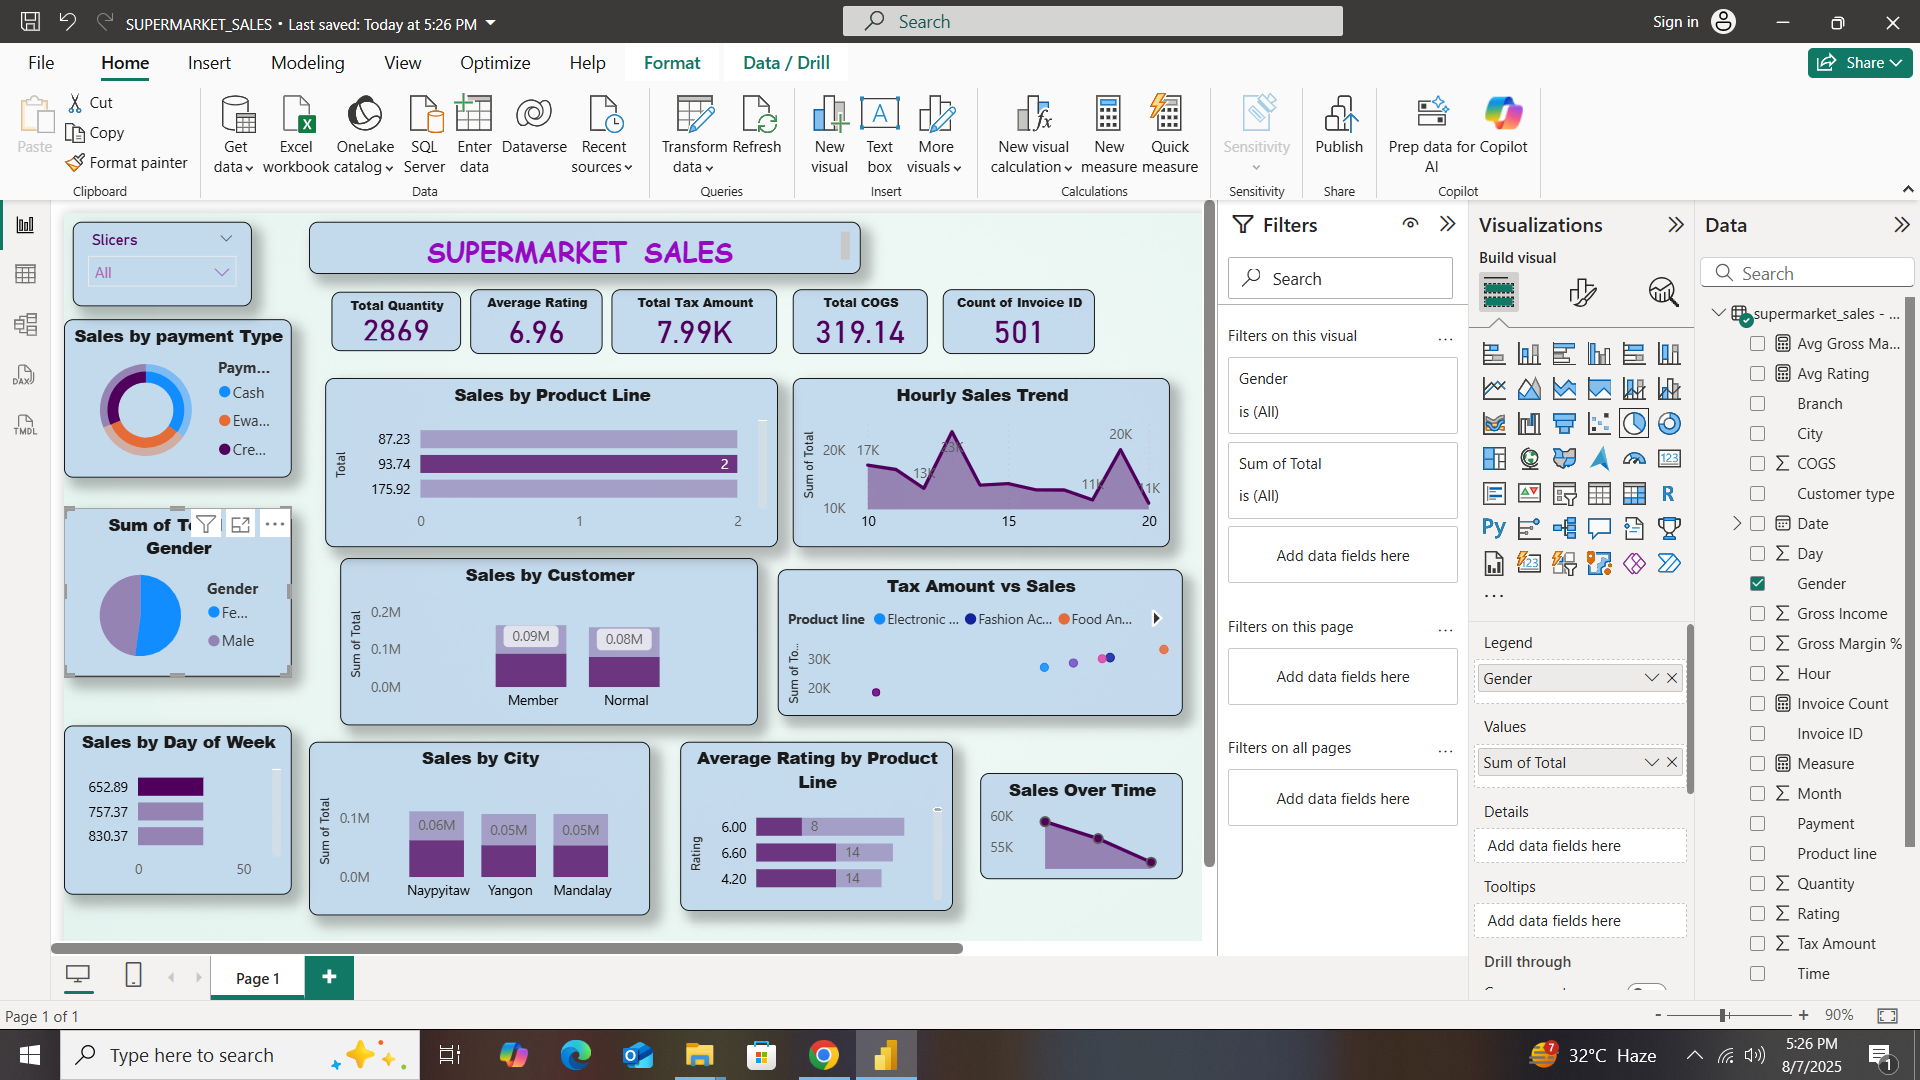

Layout of this report page (visuals, bound fields, positions):
{"tool":"powerbi","page":{"name":"Page 1","canvas":[1280,720],"ordinal":0},"visuals":[{"type":"clusteredColumnChart","title":"Sales by City","fields":{"Category":["supermarket_sales - Sheet1 - Copy.City"],"Y":["Sum(supermarket_sales - Sheet1 - Copy.Total)"]},"box":[217.8,470,303.3,154.4],"z":0},{"type":"donutChart","title":"Sales by payment Type","fields":{"Category":["supermarket_sales - Sheet1 - Copy.Payment"],"Y":["Sum(supermarket_sales - Sheet1 - Copy.Total)"]},"box":[0,94,202,141],"z":1000},{"type":"lineClusteredColumnComboChart","title":"Sales by Customer ","fields":{"Category":["supermarket_sales - Sheet1 - Copy.Customer type"],"Y":["Sum(supermarket_sales - Sheet1 - Copy.Total)"]},"box":[245.6,306.7,371.1,148.9],"z":2000},{"type":"pieChart","fields":{"Category":["supermarket_sales - Sheet1 - Copy.Gender"],"Y":["Sum(supermarket_sales - Sheet1 - Copy.Total)"]},"box":[0,262.2,202.2,150],"z":3000},{"type":"lineChart","title":"Sales Over Time","fields":{"Y":["Sum(supermarket_sales - Sheet1 - Copy.Total)"],"Category":["supermarket_sales - Sheet1 - Copy.Date.Variation.Date Hierarchy.Month"]},"box":[814.4,497.8,180,94.4],"z":4000},{"type":"areaChart","title":"Hourly Sales Trend","fields":{"Category":["supermarket_sales - Sheet1 - Copy.Hour"],"Y":["Sum(supermarket_sales - Sheet1 - Copy.Total)"]},"box":[647.8,146.7,335.6,150],"z":5000},{"type":"barChart","title":"Sales by Day of Week","fields":{"Y":["Sum(supermarket_sales - Sheet1 - Copy.Day)"],"Category":["supermarket_sales - Sheet1 - Copy.Total"]},"box":[0,455.6,202.2,150],"z":6000},{"type":"barChart","title":"Average Rating by Product Line","fields":{"Y":["CountNonNull(supermarket_sales - Sheet1 - Copy.Product line)"],"Category":["supermarket_sales - Sheet1 - Copy.Rating"]},"box":[547.8,470,242.2,150],"z":7000},{"type":"slicer","fields":{"Values":["supermarket_sales - Sheet1 - Copy.City","supermarket_sales - Sheet1 - Copy.Gross Margin %","supermarket_sales - Sheet1 - Copy.Month","supermarket_sales - Sheet1 - Copy.Gender","supermarket_sales - Sheet1 - Copy.Customer type","supermarket_sales - Sheet1 - Copy.Branch","supermarket_sales - Sheet1 - Copy.Payment"]},"box":[8,8,159,75],"z":8000},{"type":"scatterChart","title":"Tax Amount vs Sales","fields":{"X":["Sum(supermarket_sales - Sheet1 - Copy.Tax Amount)"],"Y":["Sum(supermarket_sales - Sheet1 - Copy.Total)"],"Series":["supermarket_sales - Sheet1 - Copy.Product line"],"Size":["Sum(supermarket_sales - Sheet1 - Copy.Gross Margin %)"]},"box":[634.4,316.7,360,130],"z":9000},{"type":"barChart","title":"Sales by Product Line","fields":{"Y":["CountNonNull(supermarket_sales - Sheet1 - Copy.Product line)"],"Category":["supermarket_sales - Sheet1 - Copy.Total"]},"box":[232.2,146.7,402.2,150],"z":10000},{"type":"card","title":"Total Quantity","fields":{"Values":["supermarket_sales - Sheet1 - Copy.Total Quantity"]},"box":[237.5,70,115,52.5],"z":11000},{"type":"card","title":"Average Rating","fields":{"Values":["supermarket_sales - Sheet1 - Copy.Avg Rating"]},"box":[361.1,67.8,117.8,57.8],"z":12000},{"type":"card","title":"Total Tax Amount","fields":{"Values":["Sum(supermarket_sales - Sheet1 - Copy.Tax Amount)"]},"box":[486.2,67.5,147.5,57.5],"z":13000},{"type":"card","title":"Total COGS","fields":{"Values":["supermarket_sales - Sheet1 - Copy.Avg Gross Margin%"]},"box":[647.5,67.5,120,57.5],"z":14000},{"type":"card","title":"Count of Invoice ID","fields":{"Values":["supermarket_sales - Sheet1 - Copy.Invoice Count"]},"box":[781.2,67.5,135,57.5],"z":15000},{"type":"textbox","box":[217.8,7.8,490,46.7],"z":16000}]}

Visuals, with their boxes on the page's 1280x720 design canvas (x1, y1, x2, y2). These are canvas units, not pixel positions in the 1920x1080 screenshot, which may show the page scaled, cropped or inside an application window:
"Sales by City" clusteredColumnChart: {"x1": 218, "y1": 470, "x2": 521, "y2": 624}
"Sales by payment Type" donutChart: {"x1": 0, "y1": 94, "x2": 202, "y2": 235}
"Sales by Customer " lineClusteredColumnComboChart: {"x1": 246, "y1": 307, "x2": 617, "y2": 456}
pieChart - supermarket_sales - Sheet1 - Copy.Gender x Sum(supermarket_sales - Sheet1 - Copy.Total): {"x1": 0, "y1": 262, "x2": 202, "y2": 412}
"Sales Over Time" lineChart: {"x1": 814, "y1": 498, "x2": 994, "y2": 592}
"Hourly Sales Trend" areaChart: {"x1": 648, "y1": 147, "x2": 983, "y2": 297}
"Sales by Day of Week" barChart: {"x1": 0, "y1": 456, "x2": 202, "y2": 606}
"Average Rating by Product Line" barChart: {"x1": 548, "y1": 470, "x2": 790, "y2": 620}
slicer - supermarket_sales - Sheet1 - Copy.City x supermarket_sales - Sheet1 - Copy.Gross Margin %: {"x1": 8, "y1": 8, "x2": 167, "y2": 83}
"Tax Amount vs Sales" scatterChart: {"x1": 634, "y1": 317, "x2": 994, "y2": 447}
"Sales by Product Line" barChart: {"x1": 232, "y1": 147, "x2": 634, "y2": 297}
"Total Quantity" card: {"x1": 238, "y1": 70, "x2": 352, "y2": 122}
"Average Rating" card: {"x1": 361, "y1": 68, "x2": 479, "y2": 126}
"Total Tax Amount" card: {"x1": 486, "y1": 68, "x2": 634, "y2": 125}
"Total COGS" card: {"x1": 648, "y1": 68, "x2": 768, "y2": 125}
"Count of Invoice ID" card: {"x1": 781, "y1": 68, "x2": 916, "y2": 125}
textbox: {"x1": 218, "y1": 8, "x2": 708, "y2": 54}
